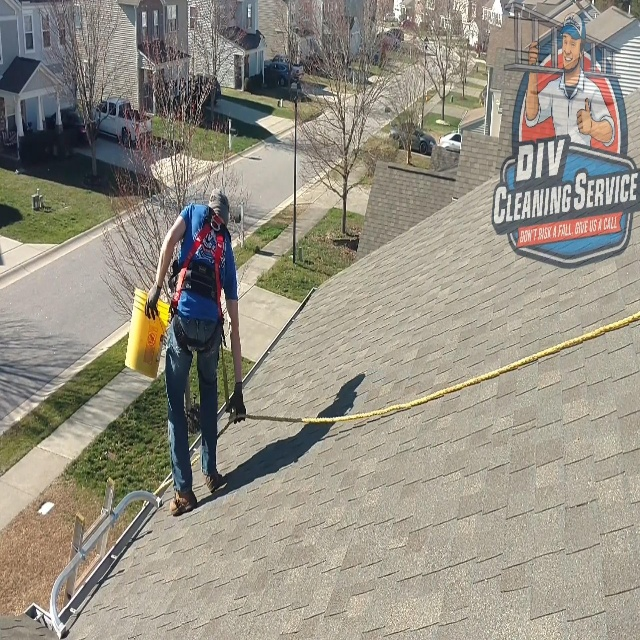Arnes_seguridad: (168, 198, 231, 361)
